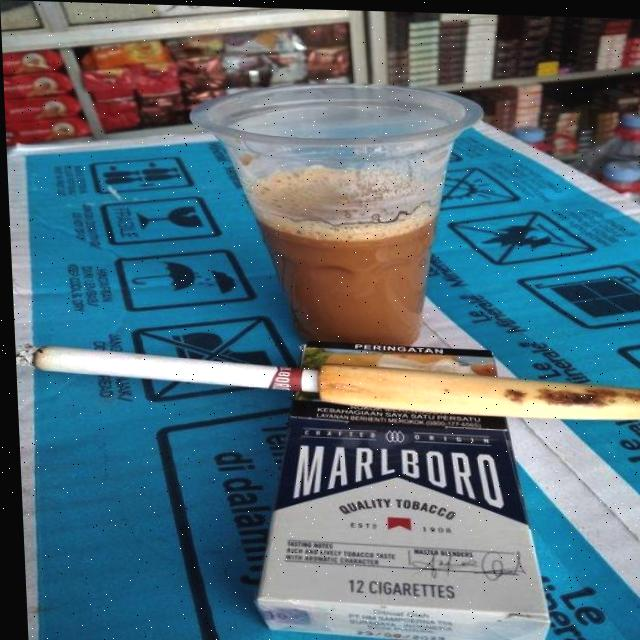cigarette: (12, 341, 317, 391)
